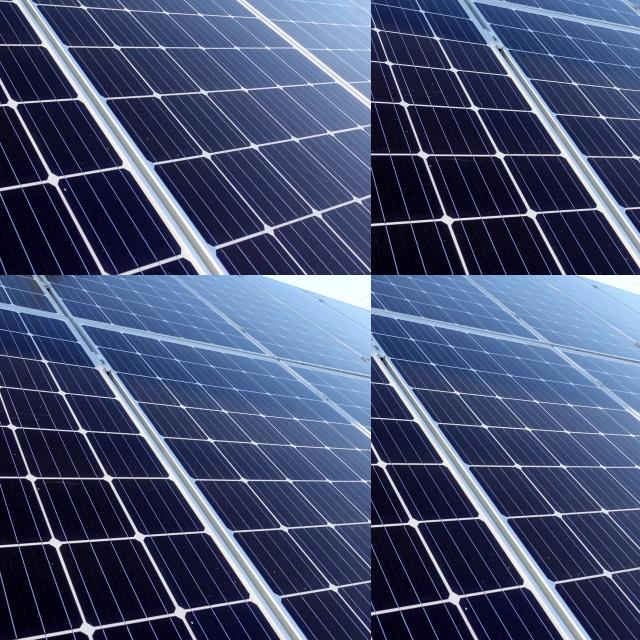crack: (371, 285, 640, 640), (371, 275, 601, 640), (392, 275, 640, 407), (371, 275, 569, 400), (0, 0, 46, 87)
panel: (0, 275, 6, 281), (0, 275, 5, 282), (0, 275, 8, 279), (0, 275, 5, 281), (0, 275, 5, 280), (371, 0, 377, 4), (0, 275, 5, 279), (0, 275, 4, 280), (0, 275, 3, 281), (371, 0, 376, 3), (0, 275, 3, 280), (0, 275, 3, 279), (371, 0, 374, 3), (371, 0, 375, 2), (371, 0, 374, 2), (0, 275, 2, 278)
